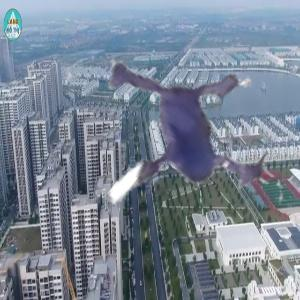drone: (7, 8, 298, 299)
